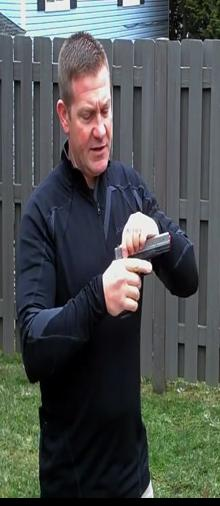pistol: (112, 228, 171, 312)
